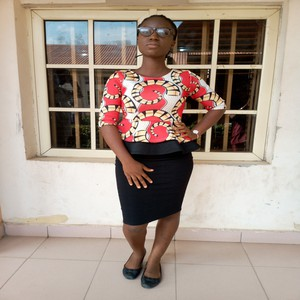Fulokoja_female_student: (104, 16, 206, 286)
